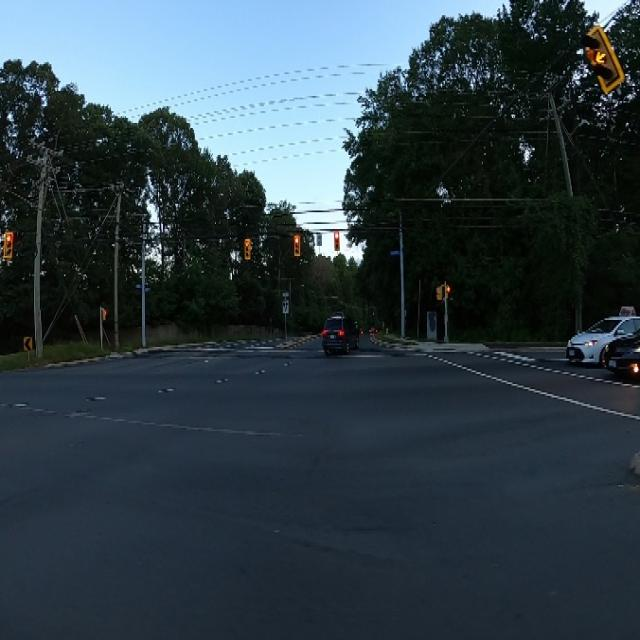car: (555, 289, 640, 370), (317, 312, 368, 357)
